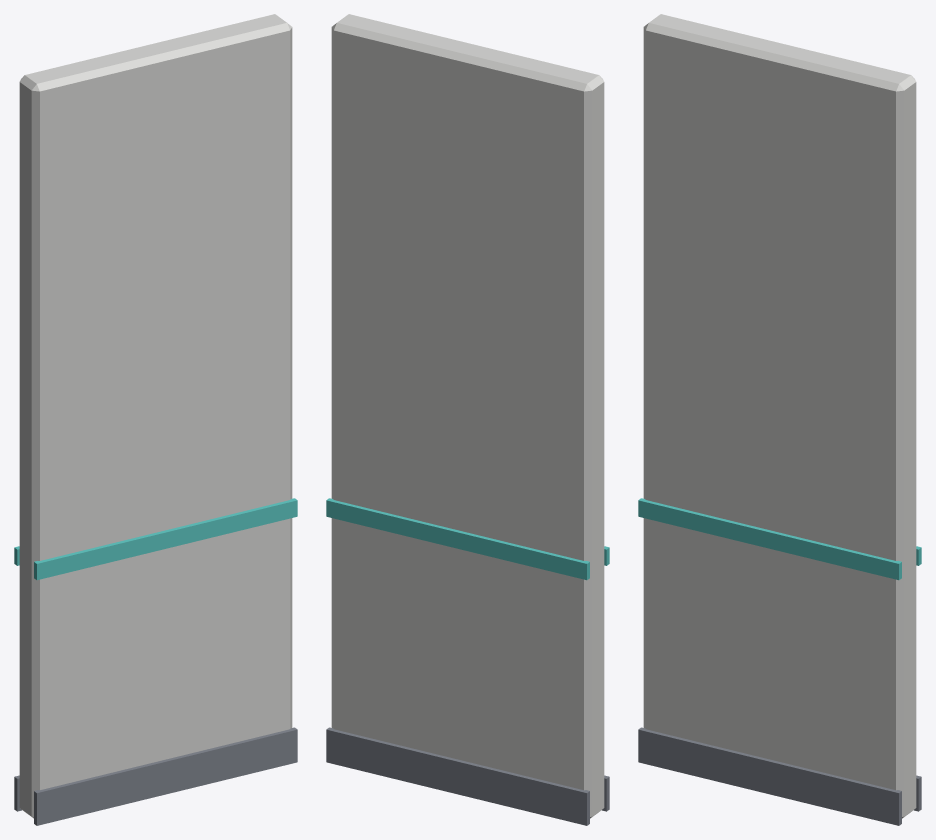
The model's file is partition-wall-1m.glb.
3 views of the same model, side by side, from view 1: azimuth 30°, elevation 25°; view 2: azimuth 150°, elevation 25°; view 3: azimuth 330°, elevation 25° (orthographic).
Visible parts, largest first — view 1: partition-wall-1m; view 2: partition-wall-1m; view 3: partition-wall-1m.
Part boxes in pixels (bbox=[...]): partition-wall-1m: bbox=[14, 14, 297, 825]; partition-wall-1m: bbox=[326, 14, 609, 825]; partition-wall-1m: bbox=[638, 14, 921, 825].
Bounding box in the file's own units: 1 × 2.7 × 0.15.
